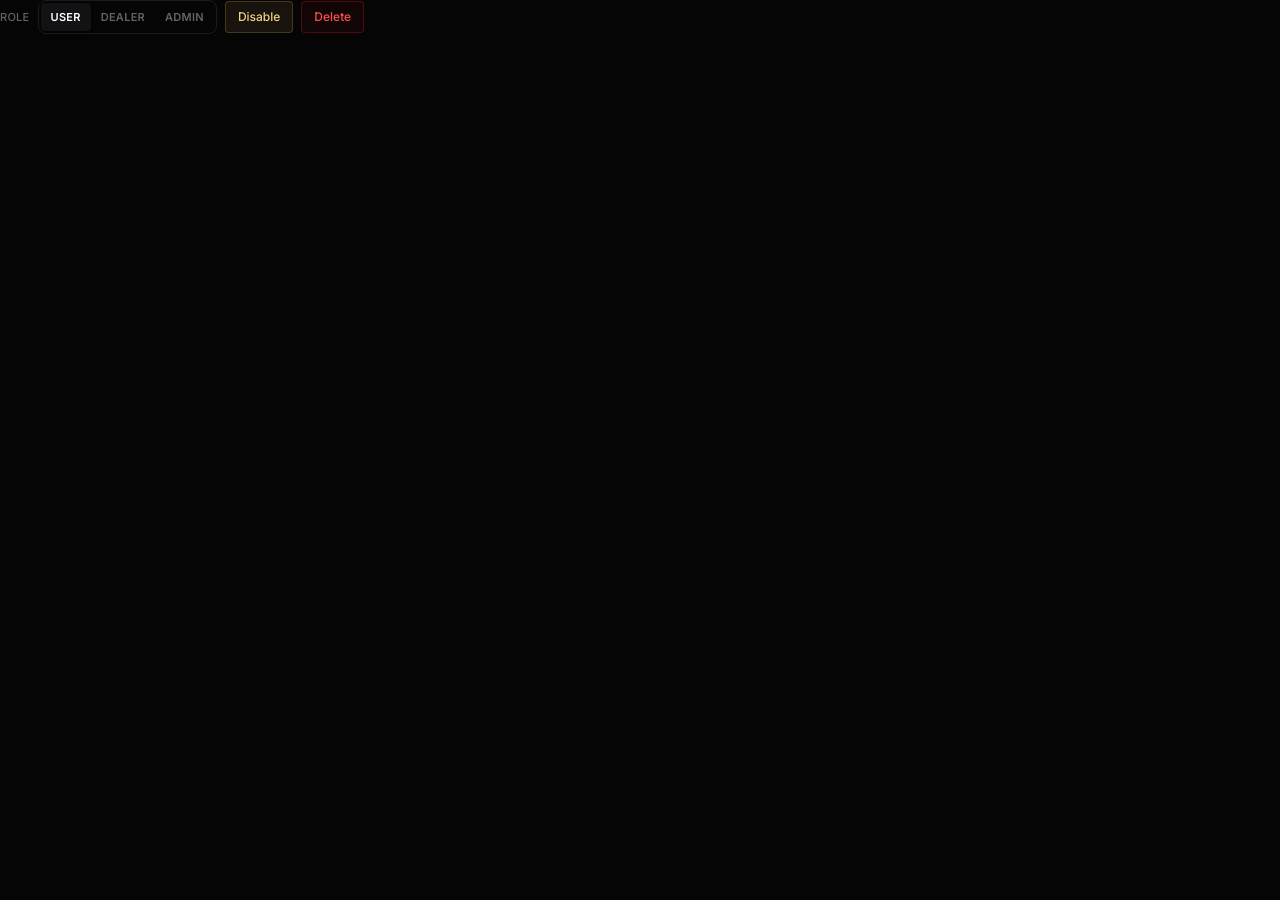
UserActions › keeps historical dealer package controls read-only after downgrade
Expected: the button "Disable" is shown, 225,1 -> 293,33
Expected: the text "paid subscription" is not shown
Click the button "Dealer". click: (123, 17)
box: 91,3 -> 155,31
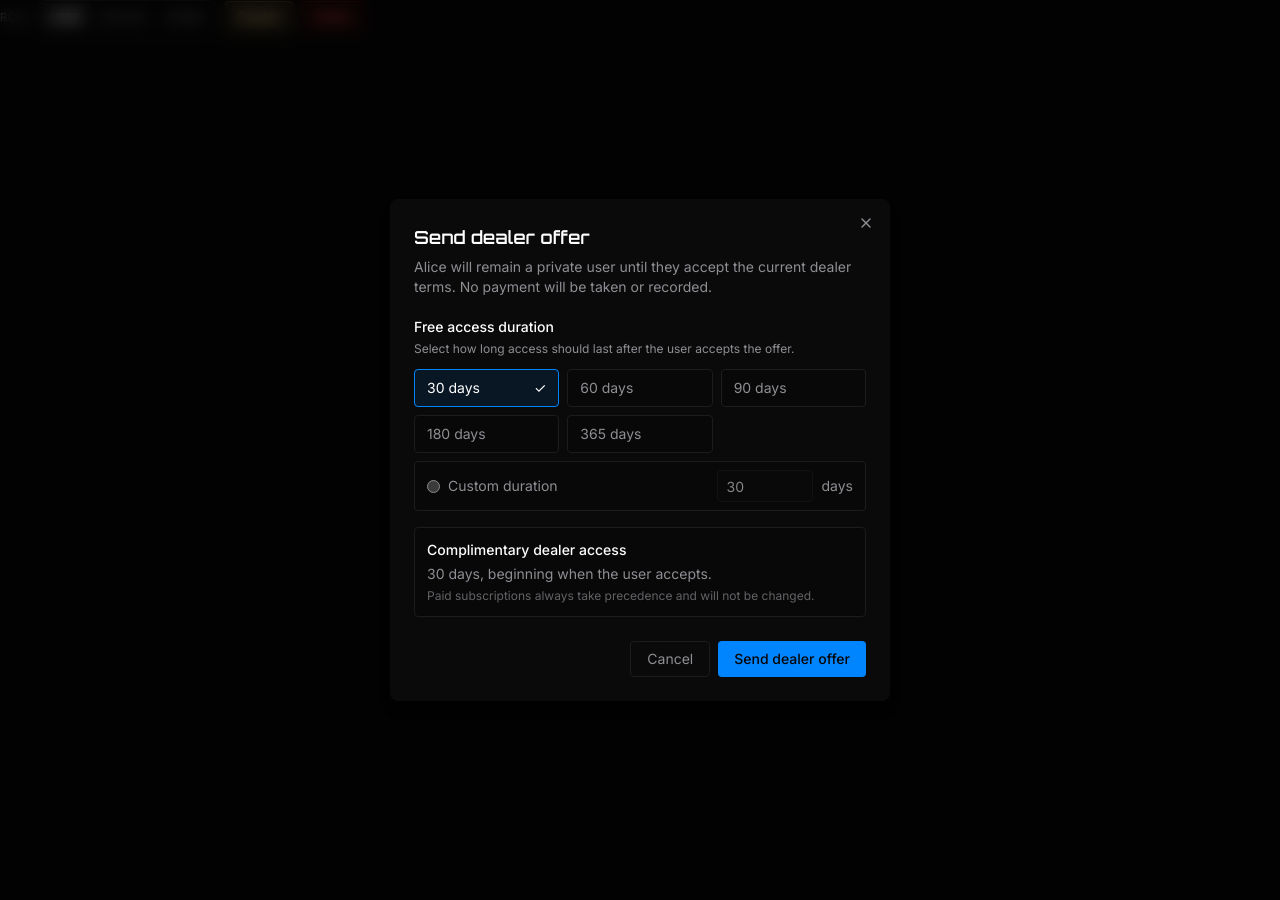
Result: the button "Send dealer offer" is shown at 718,641 -> 866,677
